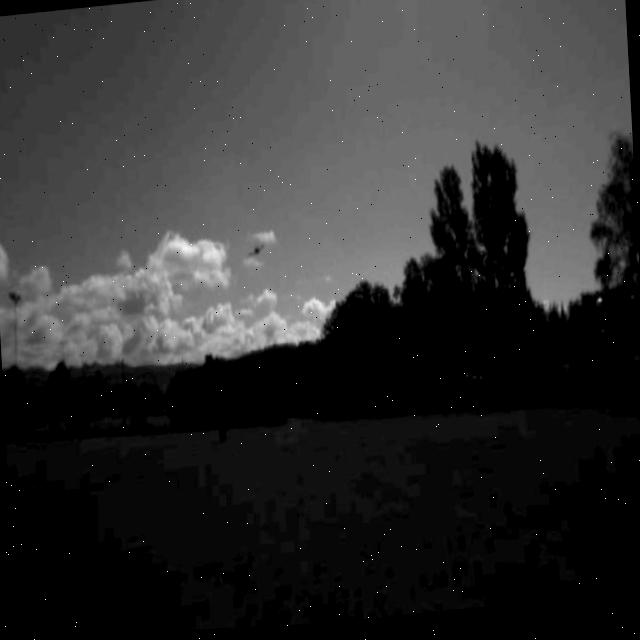drone: (246, 243, 265, 260)
